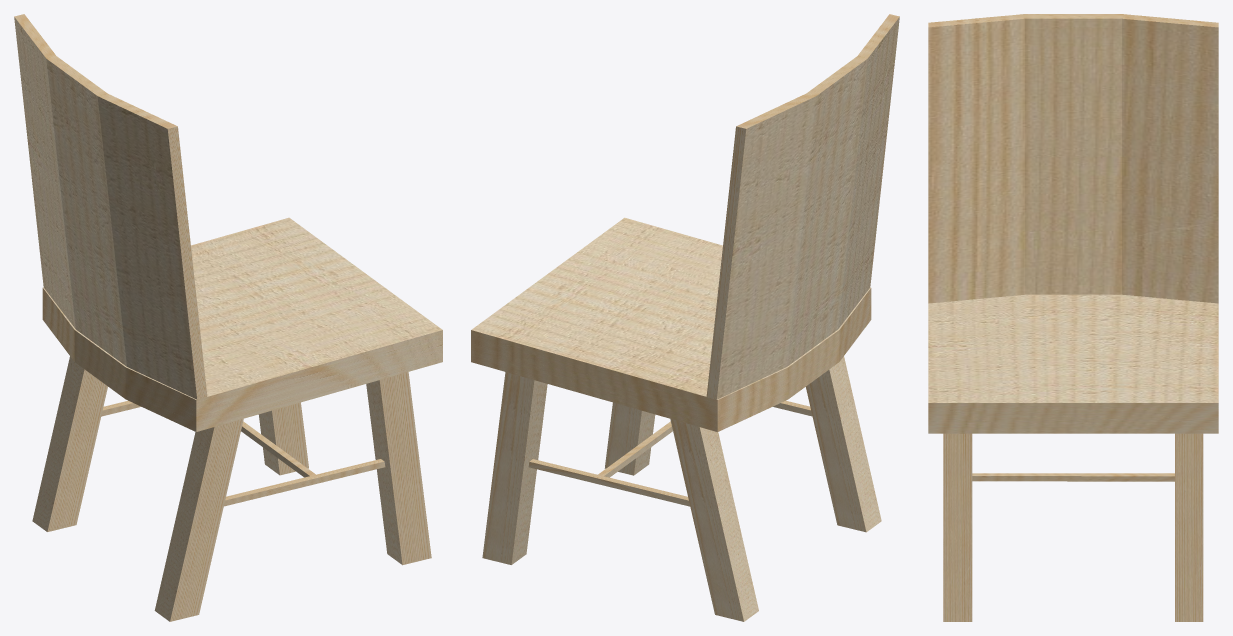
The model's file is kursi.fbx.
The picture shows the model from 3 angles, left to right: view 1: azimuth 30°, elevation 25°; view 2: azimuth 150°, elevation 25°; view 3: azimuth 270°, elevation 25°; orthographic projection. The views are drawn at different scales.
Visible parts, largest first — view 1: Cube.002, Cube, Cube.001, Cube.003, Cube.004, Cube.005, Cube.006, Cube.008; view 2: Cube.002, Cube, Cube.004, Cube.005, Cube.001, Cube.003, Cube.007, Cube.008; view 3: Cube.002, Cube, Cube.003, Cube.005, Cube.008.
Part boxes in pixels (bbox=[...]): Cube.002: bbox=[14, 14, 207, 399]; Cube: bbox=[42, 217, 442, 431]; Cube.001: bbox=[154, 419, 243, 621]; Cube.003: bbox=[366, 372, 431, 565]; Cube.004: bbox=[32, 356, 107, 531]; Cube.005: bbox=[258, 402, 308, 475]; Cube.006: bbox=[224, 459, 385, 506]; Cube.008: bbox=[241, 421, 315, 477]; Cube.002: bbox=[706, 14, 899, 399]; Cube: bbox=[471, 217, 871, 432]; Cube.004: bbox=[670, 419, 758, 621]; Cube.005: bbox=[482, 372, 547, 564]; Cube.001: bbox=[806, 356, 881, 532]; Cube.003: bbox=[604, 402, 655, 475]; Cube.007: bbox=[528, 459, 690, 506]; Cube.008: bbox=[598, 421, 672, 477]; Cube.002: bbox=[928, 14, 1218, 303]; Cube: bbox=[928, 294, 1218, 433]; Cube.003: bbox=[943, 433, 972, 621]; Cube.005: bbox=[1175, 433, 1203, 621]; Cube.008: bbox=[972, 473, 1174, 481].
Size of the model in its own units: 2.21 by 3.6 by 2.
